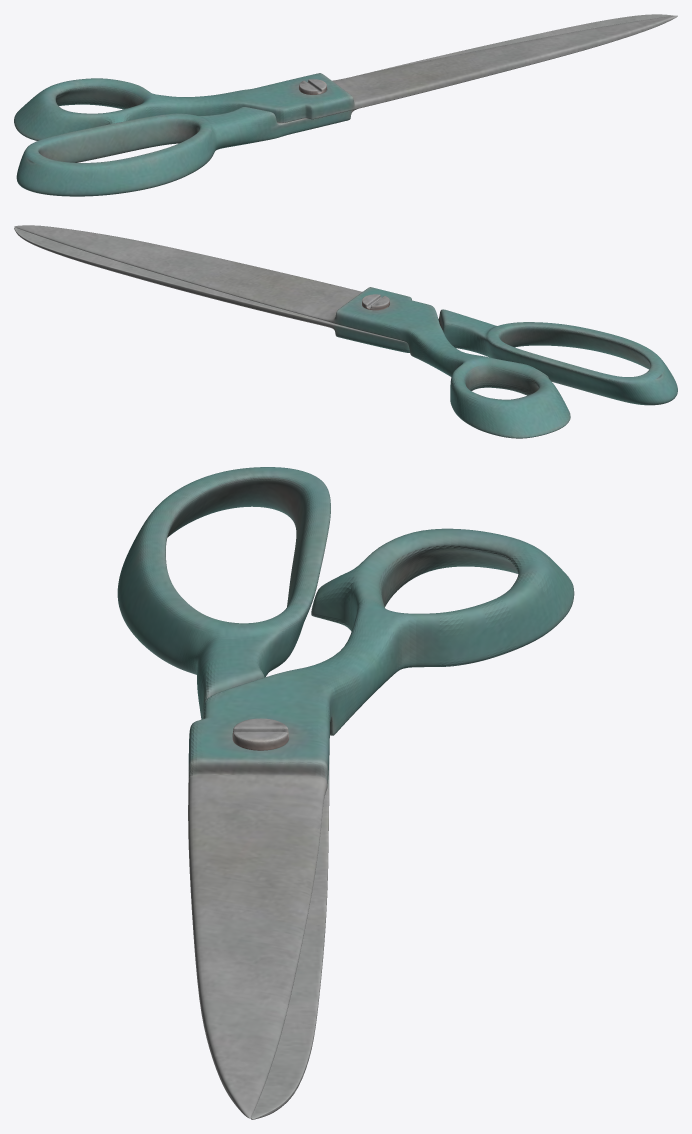
The model's file is scissors_2.fbx.
3 views of the same model, one above another, from view 1: azimuth 30°, elevation 25°; view 2: azimuth 150°, elevation 25°; view 3: azimuth 270°, elevation 25° (orthographic). The views are drawn at different scales.
Visible parts, largest first — view 1: Scissors2Hilt, Scissors2Blade, Scissors2Screw; view 2: Scissors2Hilt, Scissors2Blade, Scissors2Screw; view 3: Scissors2Hilt, Scissors2Blade, Scissors2Screw.
Boxes of the visible parts, x1,y1,x2,y2 form: Scissors2Hilt: (14,73,354,196); Scissors2Blade: (332,14,677,112); Scissors2Screw: (299,79,326,94); Scissors2Hilt: (334,287,677,438); Scissors2Blade: (14,225,362,329); Scissors2Screw: (362,294,389,310); Scissors2Hilt: (117,467,574,790); Scissors2Blade: (188,774,329,1119); Scissors2Screw: (232,718,288,750).
Size of what is drawn, in the model's own units: 26.23 by 7.9 by 1.4.
